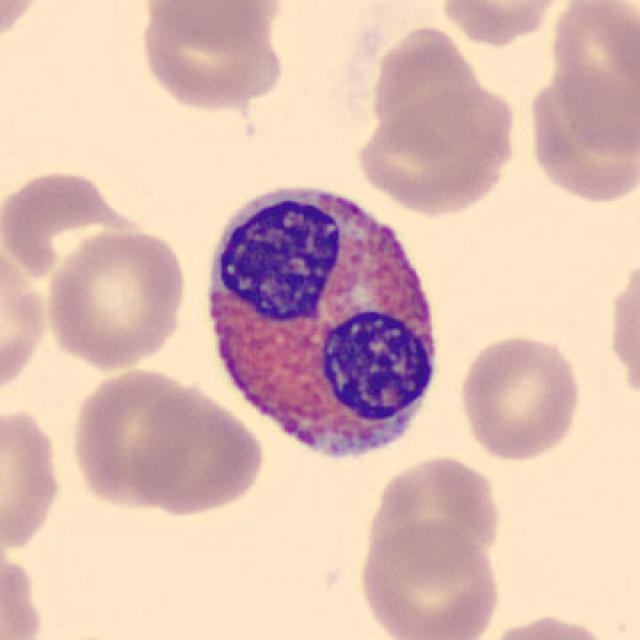Eosinophil: (194, 164, 452, 480)
RBC: (366, 18, 520, 176), (350, 86, 519, 218), (41, 226, 190, 372), (66, 363, 204, 513), (126, 386, 268, 518), (355, 518, 505, 640), (361, 451, 507, 575), (455, 329, 585, 464), (135, 2, 288, 113), (528, 74, 640, 212), (544, 0, 638, 162), (0, 400, 66, 559), (0, 234, 52, 406), (140, 0, 289, 49), (436, 0, 582, 48), (604, 250, 640, 411), (0, 541, 46, 640), (478, 612, 620, 640), (0, 0, 50, 53)
